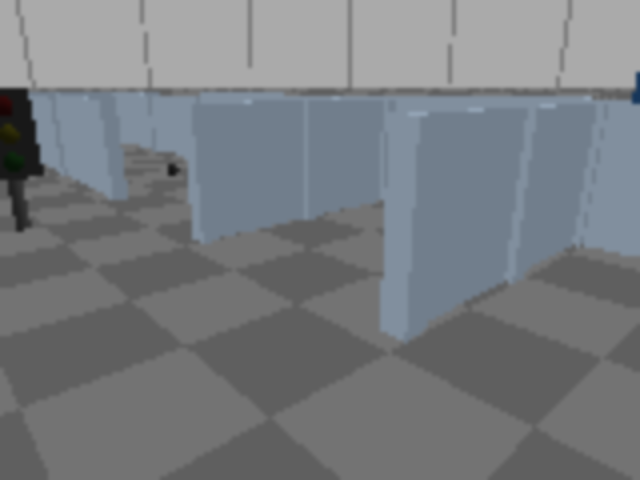person: (612, 0, 638, 248)
traffic_light: (0, 80, 54, 238)
